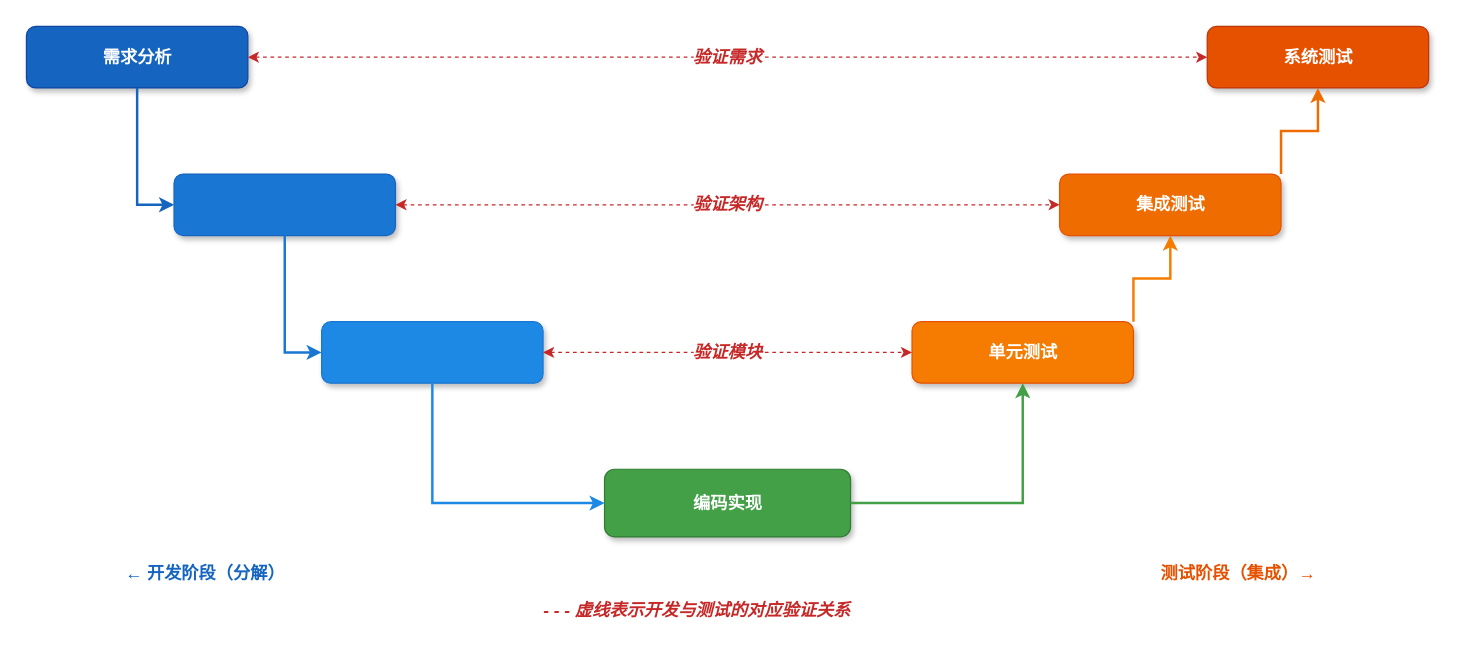
Some shapes in this 1458 by 645 pixel diagram are drawn without their labels. Each missing label, with the centre of its shape:
"概要设计" goes at point (285, 206).
"详细设计" goes at point (432, 353).
